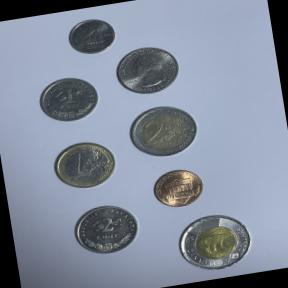1 Euro: (46, 134, 124, 196)
2 Euro: (122, 98, 204, 164)
Canda-10cent-: (63, 13, 120, 62)
Canda-2Dollar-: (169, 204, 260, 280)
Croatia-2Kune-: (66, 196, 148, 262)
US-1cent-: (146, 161, 210, 213)
US-25cent-: (110, 40, 186, 100)
